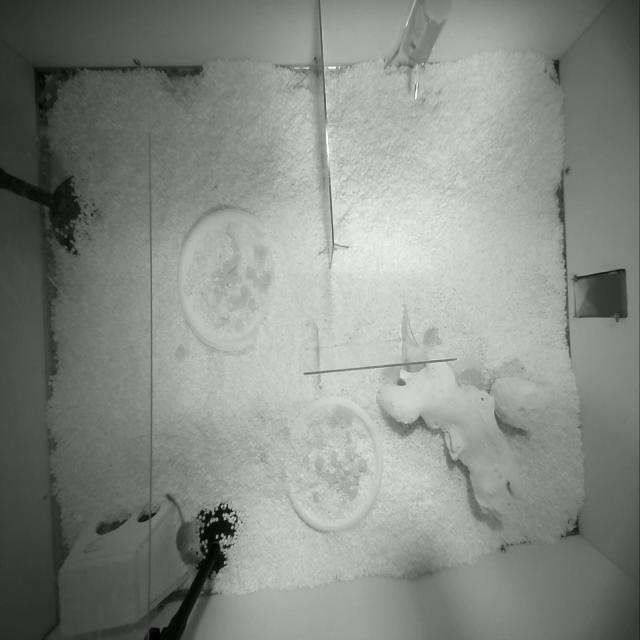pup_fluffy: (166, 494, 204, 565)
